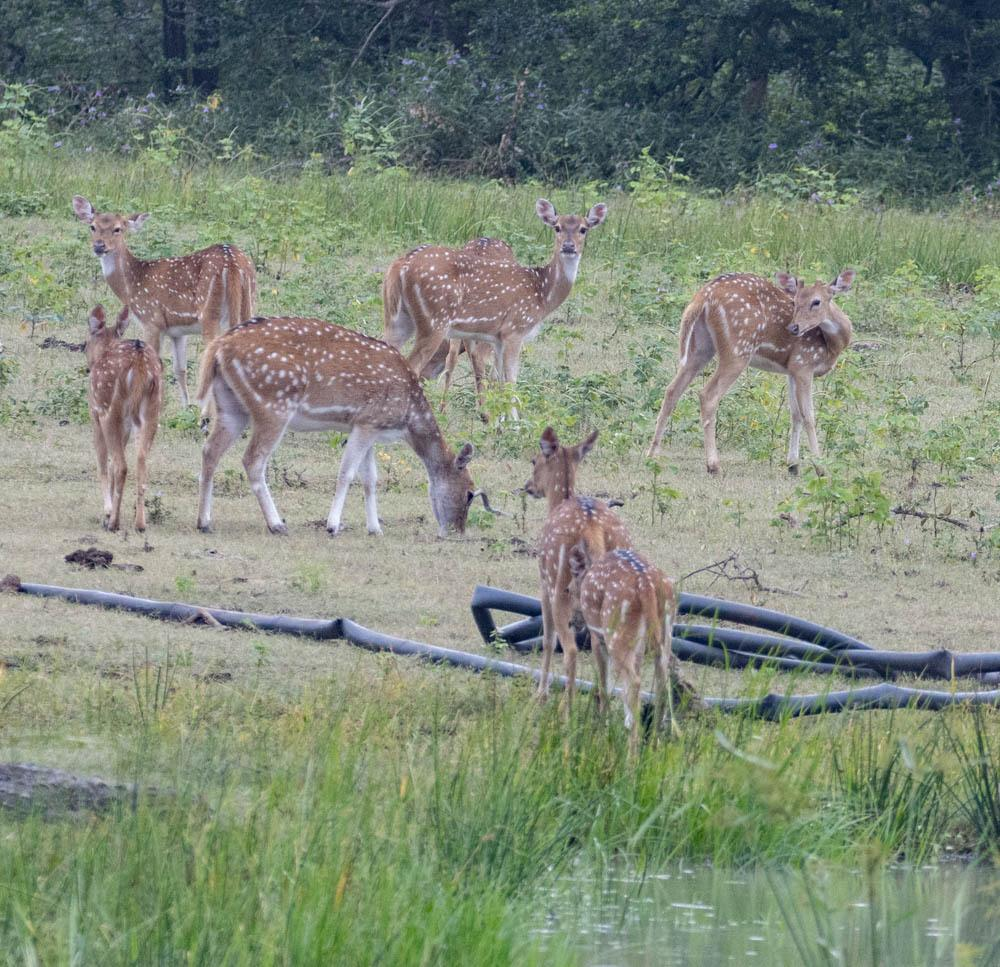Deer: (196, 317, 473, 537), (649, 270, 855, 473), (383, 200, 607, 382), (72, 195, 257, 405), (522, 426, 630, 695), (568, 545, 675, 741), (85, 305, 161, 534)
